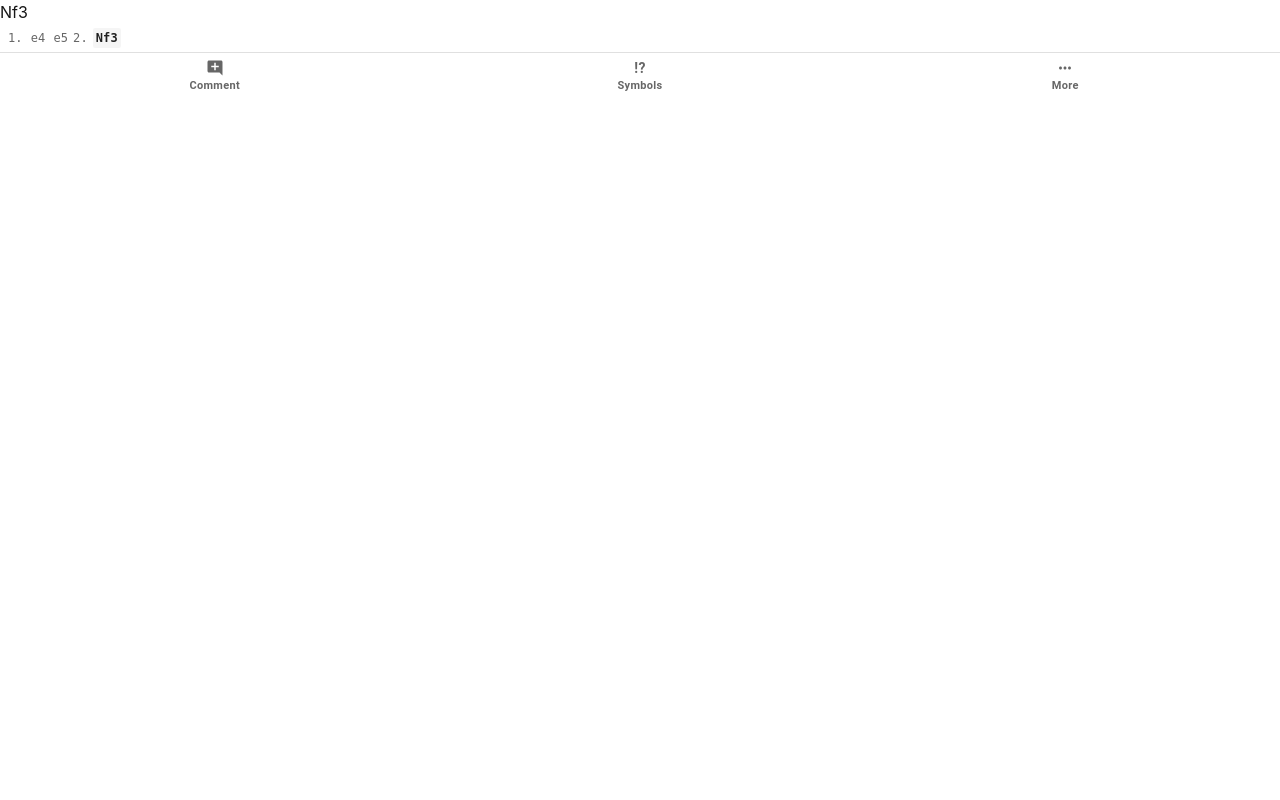
Test: Mobile action sheet › Delete move from the sheet selects the previous move
Click the text "Nf3" next to "2.": click(107, 38) left=93, top=28, right=121, bottom=48
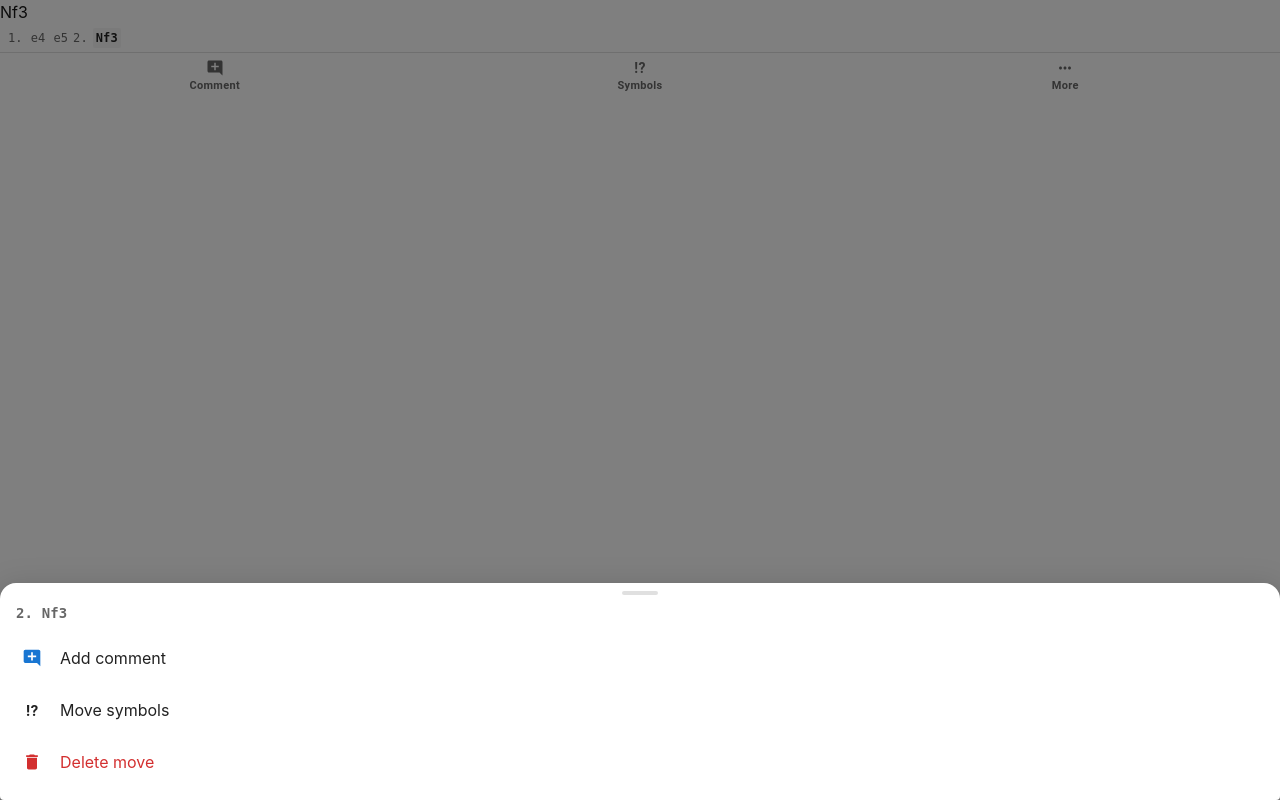
Click the menu item "Delete move": click(107, 762) left=8, top=736, right=1272, bottom=788
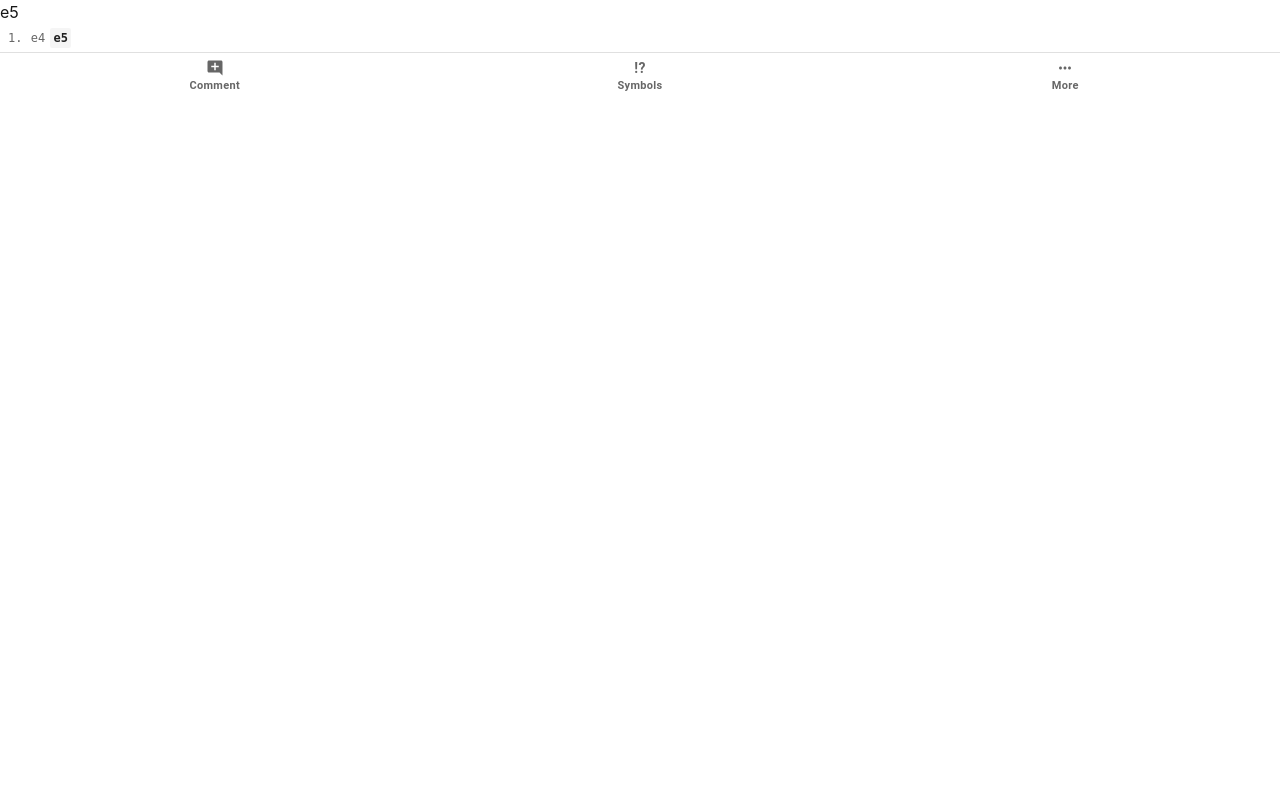
Check: the text "Nf3" is gone
Check: the text with test id "selected" reads "e5", box left=0, top=2, right=19, bottom=22
